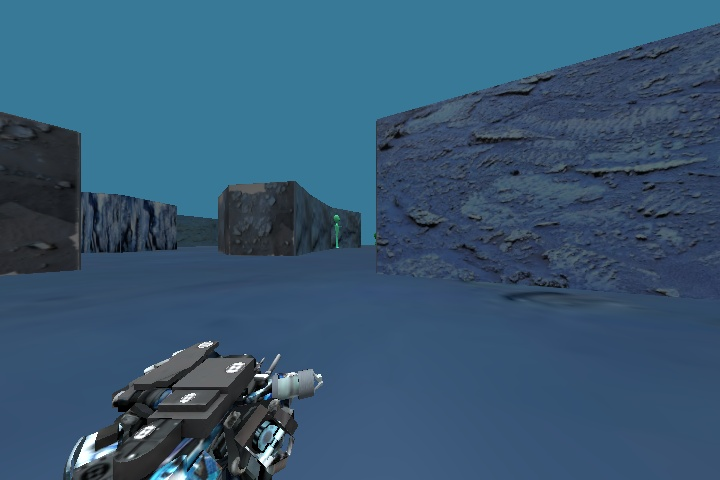green_alien: (326, 211, 344, 251)
